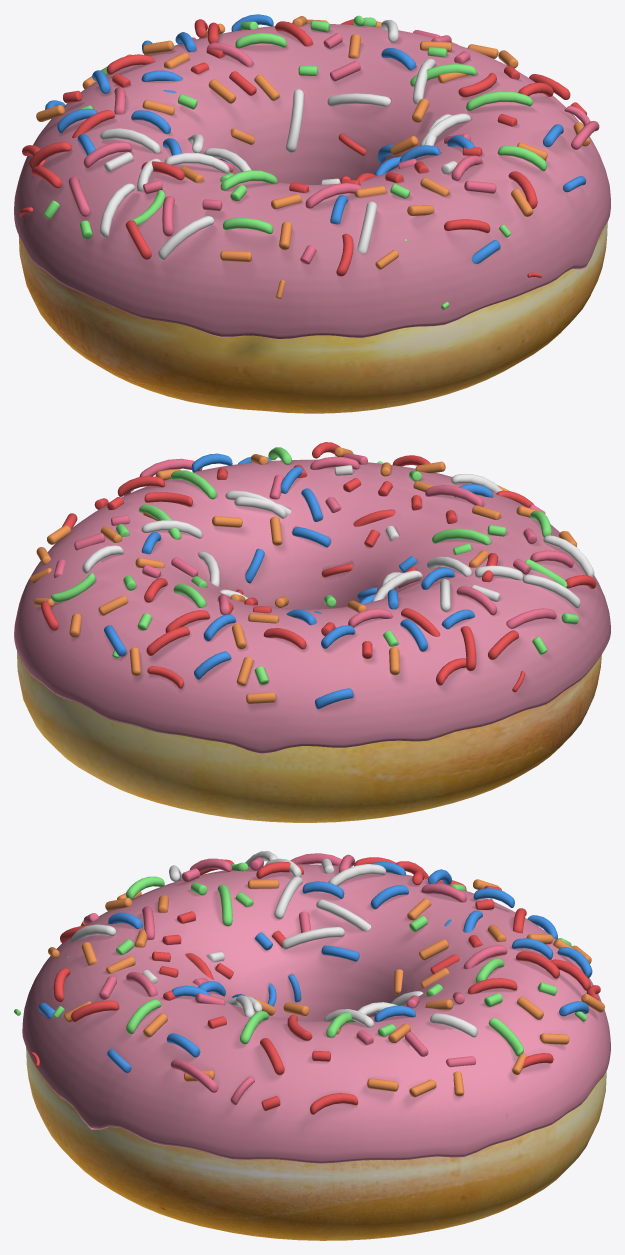
Rendered from strawberry Rainbow vermicheli.glb.
3 renders of one model, top to bottom at view 1: azimuth 30°, elevation 25°; view 2: azimuth 150°, elevation 25°; view 3: azimuth 270°, elevation 25°, orthographic. The views are drawn at different scales.
Parts seen in each view (by area): view 1: coffee.001, strawberry, blue.002, Torus; view 2: strawberry, coffee.001, blue.002, Torus; view 3: strawberry, coffee.001, Torus, blue.002.
Boxes of the visible parts, box(x1,y1,x2,y2) form: coffee.001: box(14, 24, 610, 338); strawberry: box(14, 24, 610, 339); blue.002: box(19, 14, 599, 309); Torus: box(18, 222, 607, 413); strawberry: box(14, 460, 606, 753); coffee.001: box(14, 459, 610, 753); blue.002: box(30, 442, 596, 709); Torus: box(17, 651, 601, 822); strawberry: box(23, 864, 610, 1163); coffee.001: box(22, 864, 610, 1163); Torus: box(26, 1047, 606, 1240); blue.002: box(14, 851, 604, 1114).
Bounding box in the file's own units: 0.1989 × 0.0773 × 0.2.
9 materials, 2 textured.
